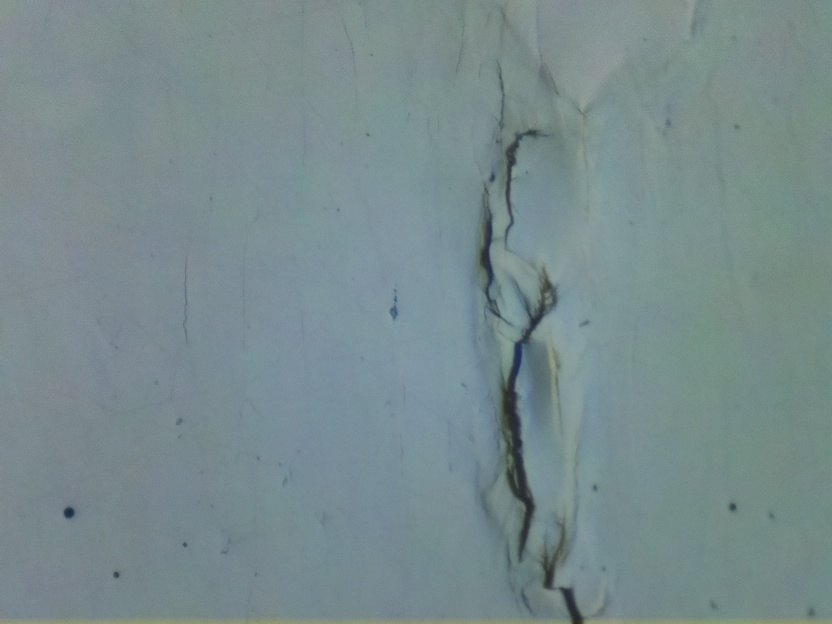crack: (505, 263, 567, 563), (499, 118, 550, 248), (540, 532, 584, 624), (474, 202, 497, 321)
